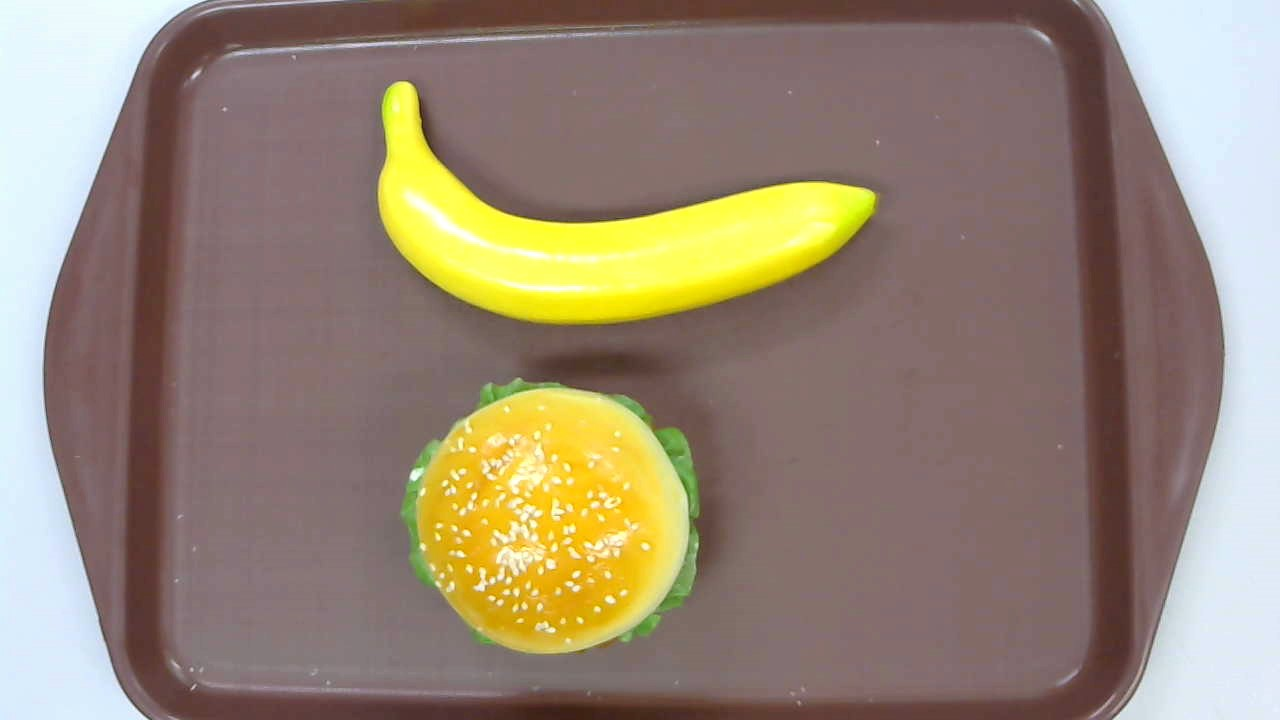banana: (376, 80, 878, 327)
hamburger: (400, 375, 701, 655)
